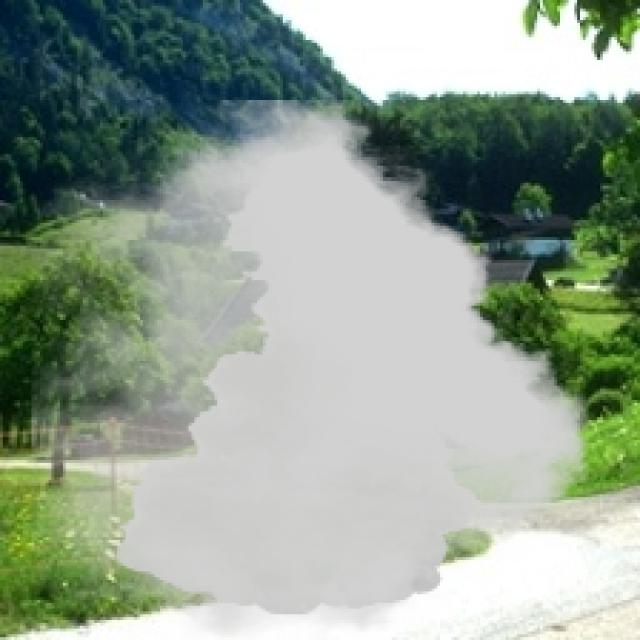smoke: (31, 100, 592, 637)
